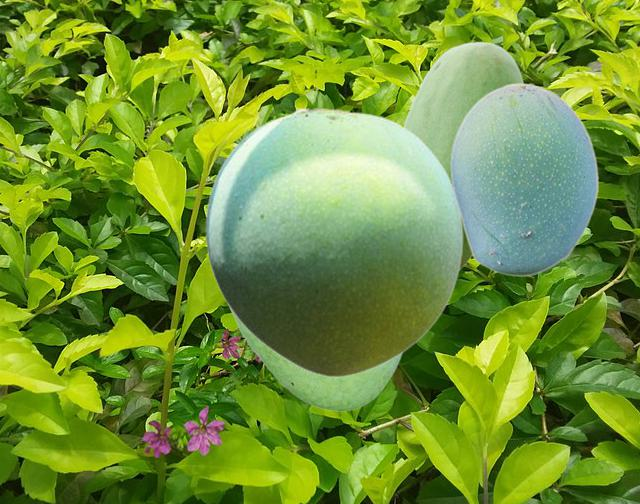green_mango: (205, 106, 462, 376), (449, 82, 598, 276), (403, 41, 524, 269), (224, 301, 403, 410)
